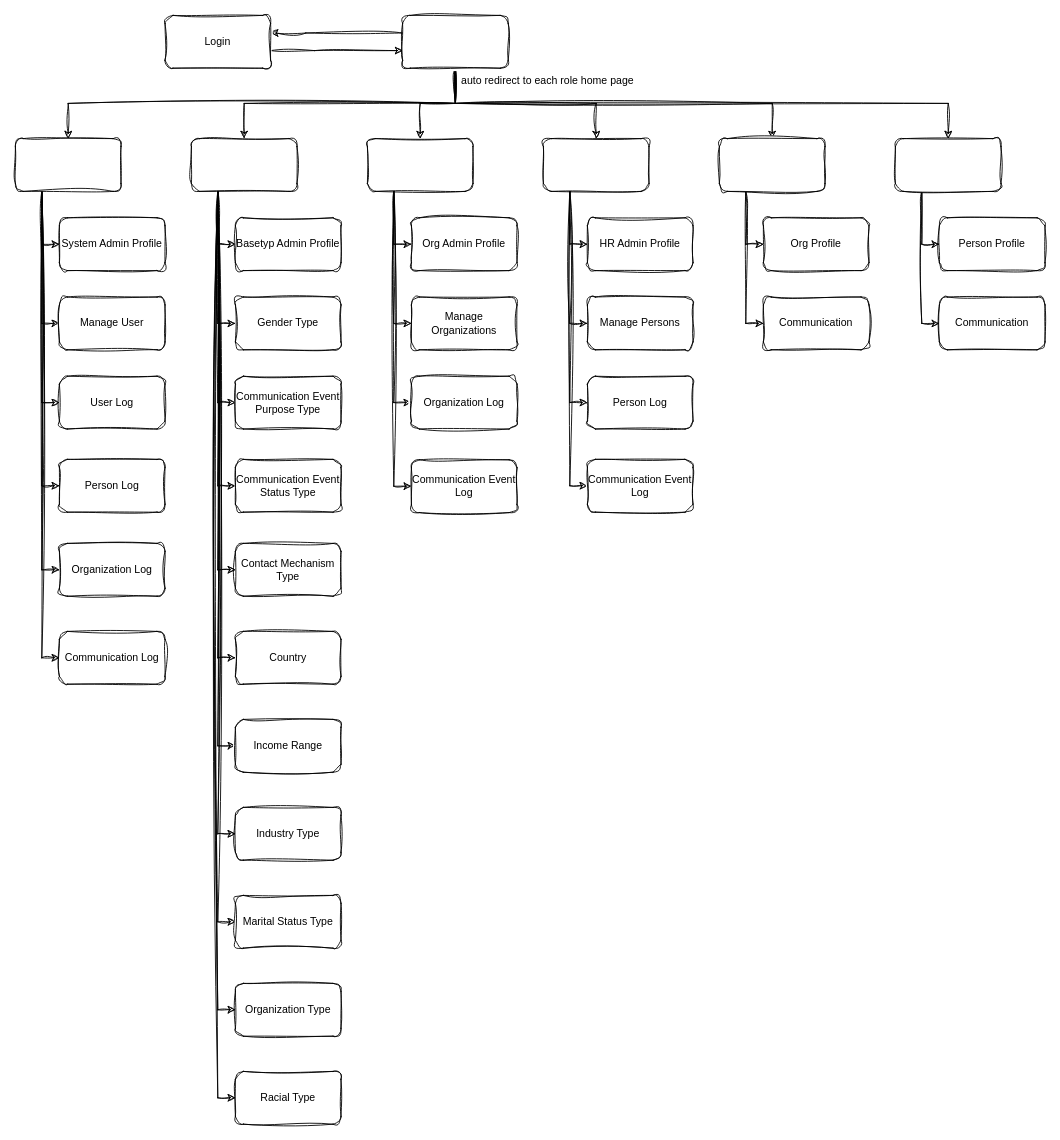
The diagram is 1060 pixels wide and 1140 high, and some of its shapes have lost their labels. The shapes that lost their labels are listed below. From the top down, each one's box as (x1, y1, x2, y2) in pixels, then its label:
(402, 15, 508, 68): Root Page
(15, 138, 121, 191): System Admin Home
(191, 138, 297, 191): Basetype Admin Home
(367, 138, 473, 191): Org Admin Home
(543, 138, 649, 191): HR Admin Home
(719, 138, 825, 191): Org
(895, 138, 1001, 191): Person
